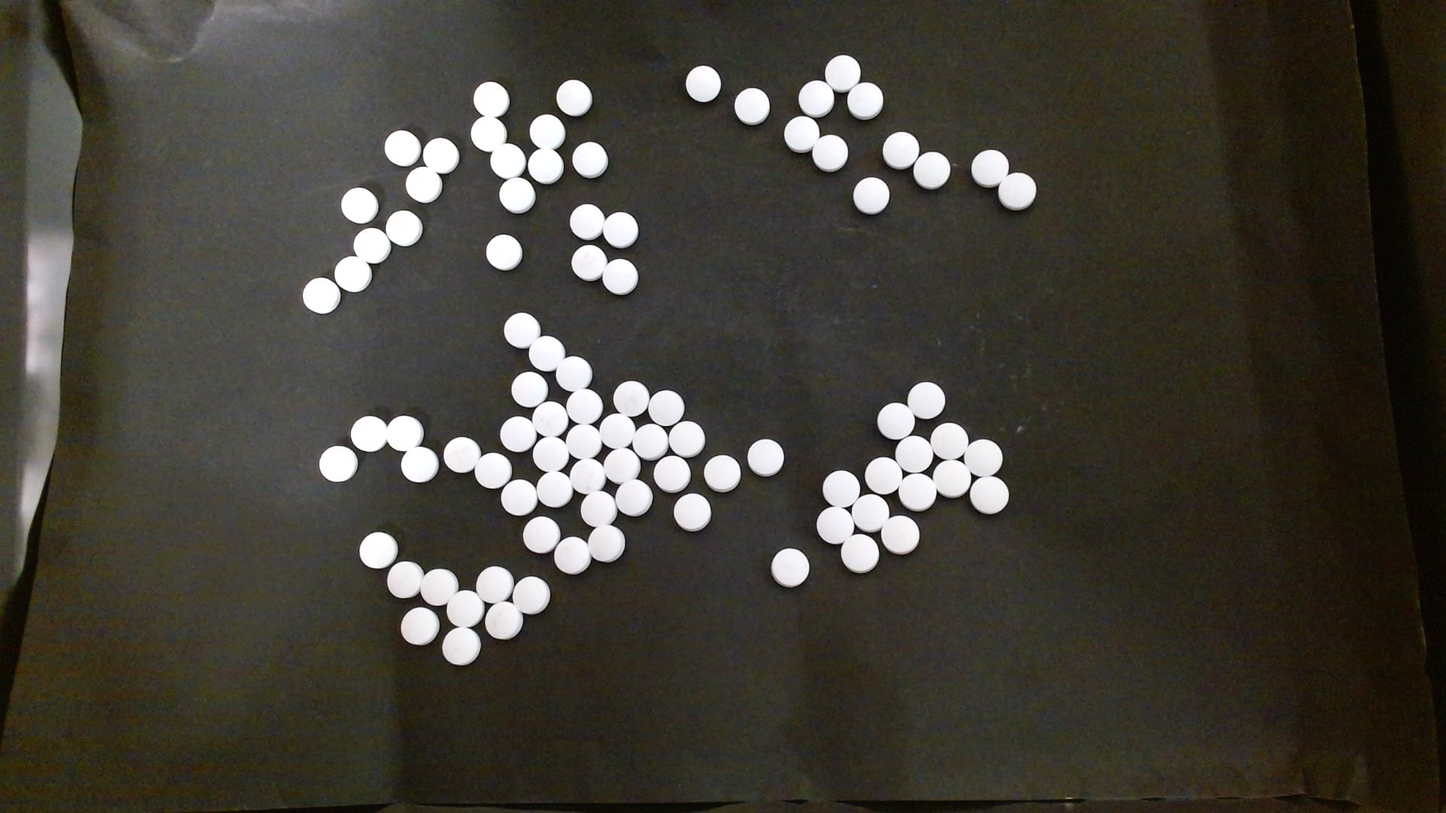Circle: (770, 547, 811, 589), (510, 575, 551, 615), (880, 514, 920, 555), (969, 474, 1009, 515), (840, 534, 880, 574), (399, 607, 440, 646), (931, 458, 970, 498), (850, 492, 889, 532), (474, 565, 513, 604), (673, 492, 712, 531), (441, 626, 480, 665), (358, 531, 398, 569), (929, 421, 968, 459), (652, 455, 691, 493), (876, 401, 914, 440), (895, 434, 933, 473), (816, 505, 854, 544), (318, 445, 357, 483), (907, 380, 945, 419), (587, 524, 625, 563), (446, 589, 484, 628), (998, 171, 1036, 210), (614, 478, 652, 516), (349, 414, 387, 452), (522, 515, 560, 553), (898, 472, 936, 510), (419, 568, 457, 606), (485, 601, 523, 639), (581, 489, 618, 528), (553, 536, 590, 575), (386, 559, 423, 598), (746, 438, 783, 477), (400, 446, 438, 483), (668, 420, 705, 458), (340, 187, 378, 224), (965, 438, 1003, 475), (703, 454, 740, 492), (532, 435, 569, 473), (822, 469, 859, 507), (535, 469, 572, 507), (502, 311, 540, 348), (971, 148, 1008, 186), (865, 456, 901, 495), (511, 370, 548, 407), (334, 256, 371, 293), (383, 129, 420, 166), (474, 452, 511, 489), (612, 379, 649, 416), (648, 388, 685, 425), (569, 457, 606, 494), (913, 151, 950, 188), (555, 78, 592, 115), (783, 115, 819, 153), (847, 81, 883, 119), (811, 134, 847, 172), (301, 278, 339, 314), (824, 53, 860, 91), (853, 176, 889, 214), (386, 209, 423, 245), (405, 166, 442, 202), (572, 141, 608, 178), (602, 211, 638, 248), (555, 355, 591, 392), (471, 114, 507, 151), (499, 479, 536, 515), (532, 400, 568, 437), (599, 412, 635, 449), (566, 388, 602, 425), (798, 80, 834, 117), (472, 80, 508, 117), (883, 131, 919, 168), (499, 177, 535, 213), (529, 114, 565, 150), (443, 437, 479, 473), (528, 334, 564, 370), (499, 416, 535, 452), (485, 234, 521, 270), (528, 147, 563, 184), (571, 243, 606, 280), (569, 202, 604, 239), (602, 258, 637, 295), (685, 65, 720, 102), (354, 227, 389, 263), (490, 143, 526, 178), (633, 422, 668, 458), (604, 447, 639, 483), (734, 87, 769, 123), (386, 416, 423, 450), (423, 137, 458, 172), (567, 423, 602, 458)
